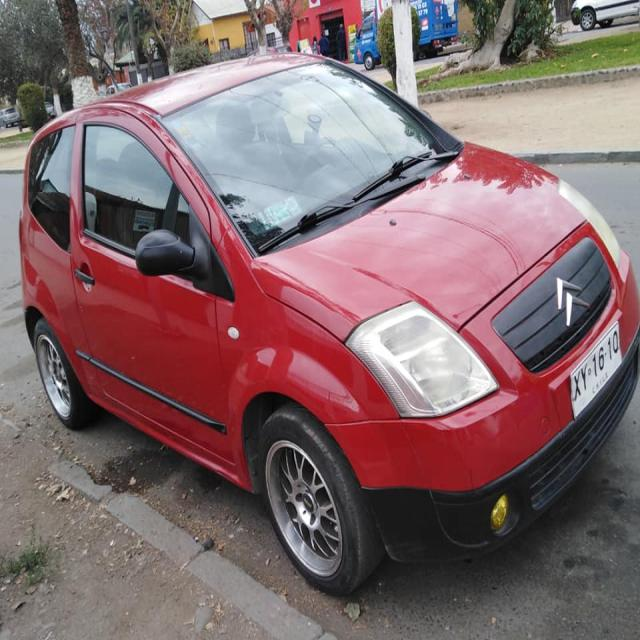patente: (569, 319, 622, 421)
